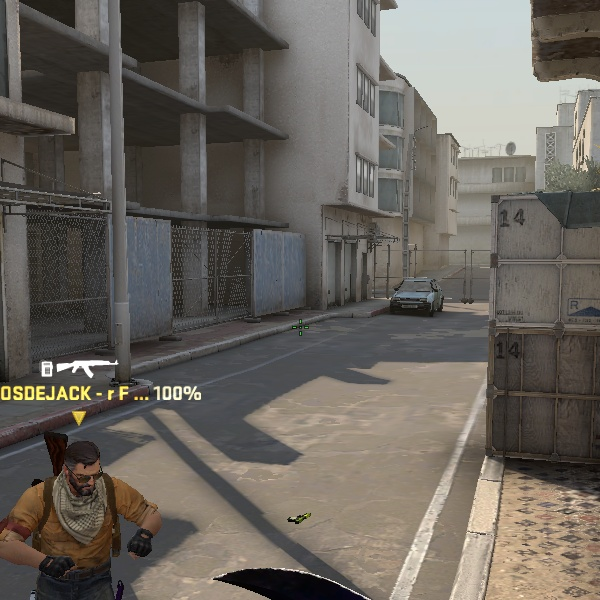t_body: (5, 436, 162, 596)
t_head: (51, 441, 113, 502)
